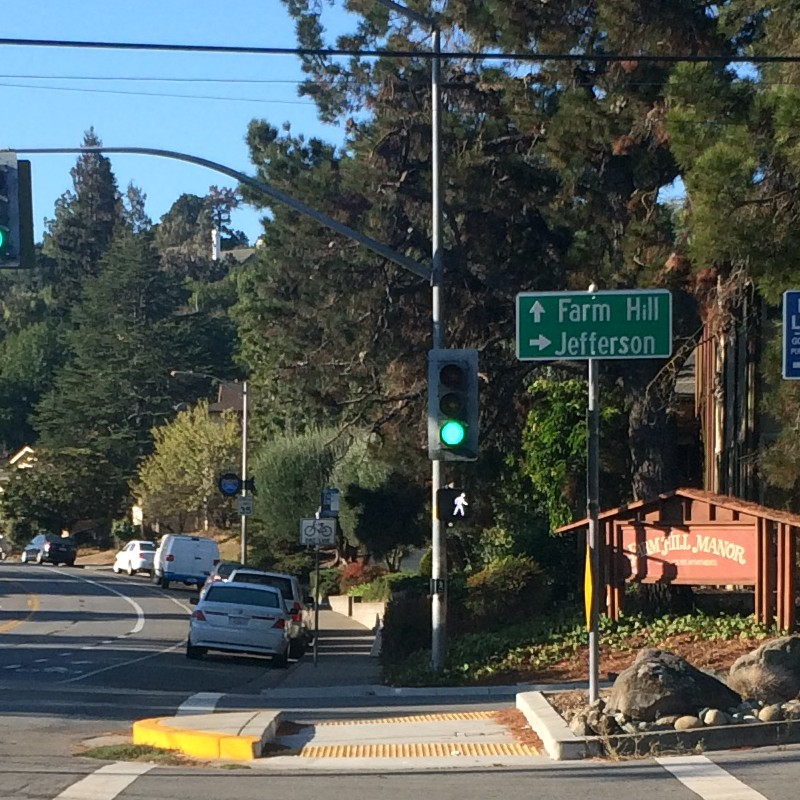go: (437, 488, 486, 522)
